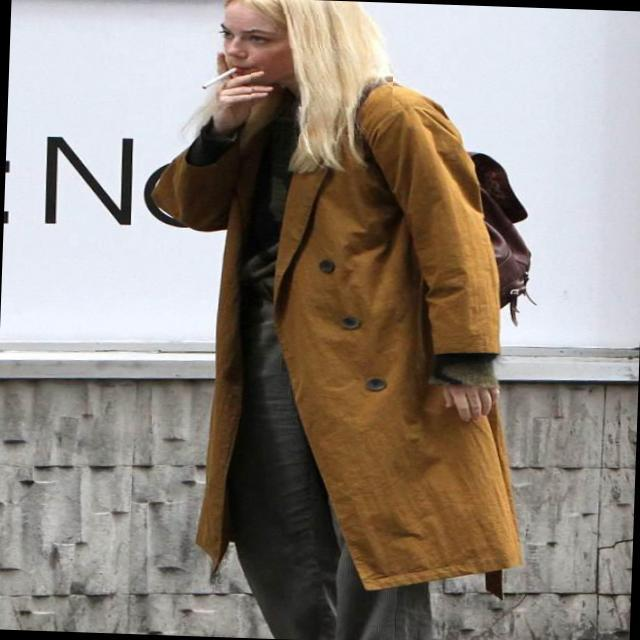cigarette: (190, 52, 238, 100)
